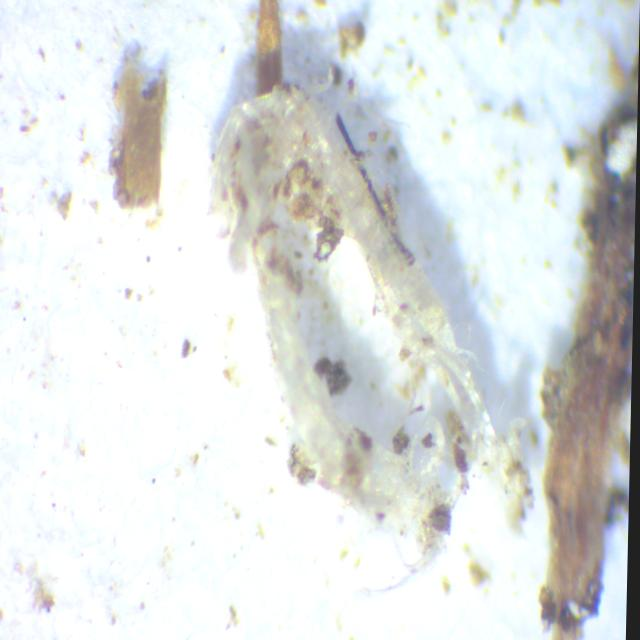microplastic: (208, 81, 530, 576)
